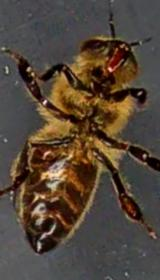varroa_mite: (28, 138, 56, 163)
